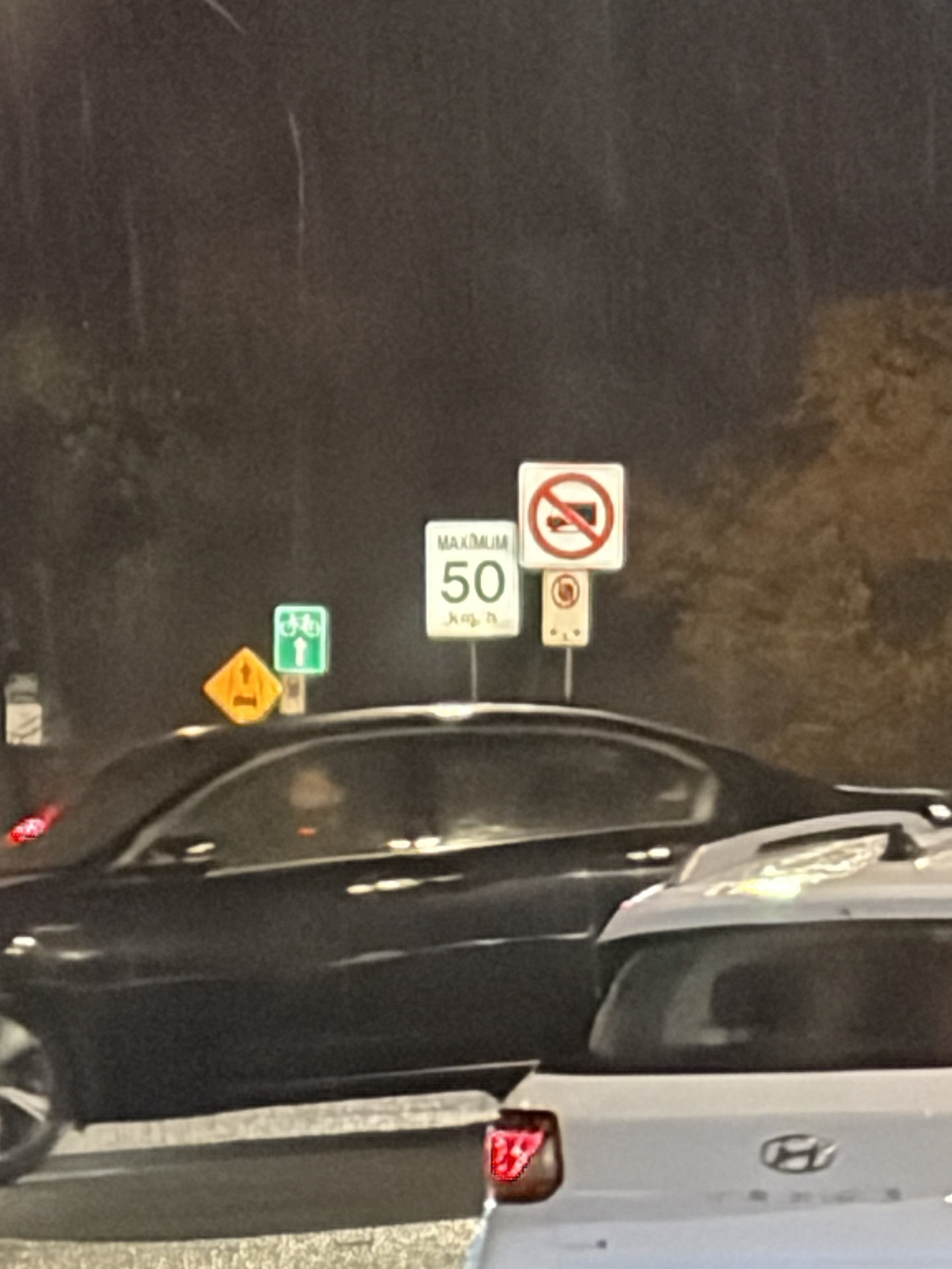speed_limit: (405, 503, 534, 642)
